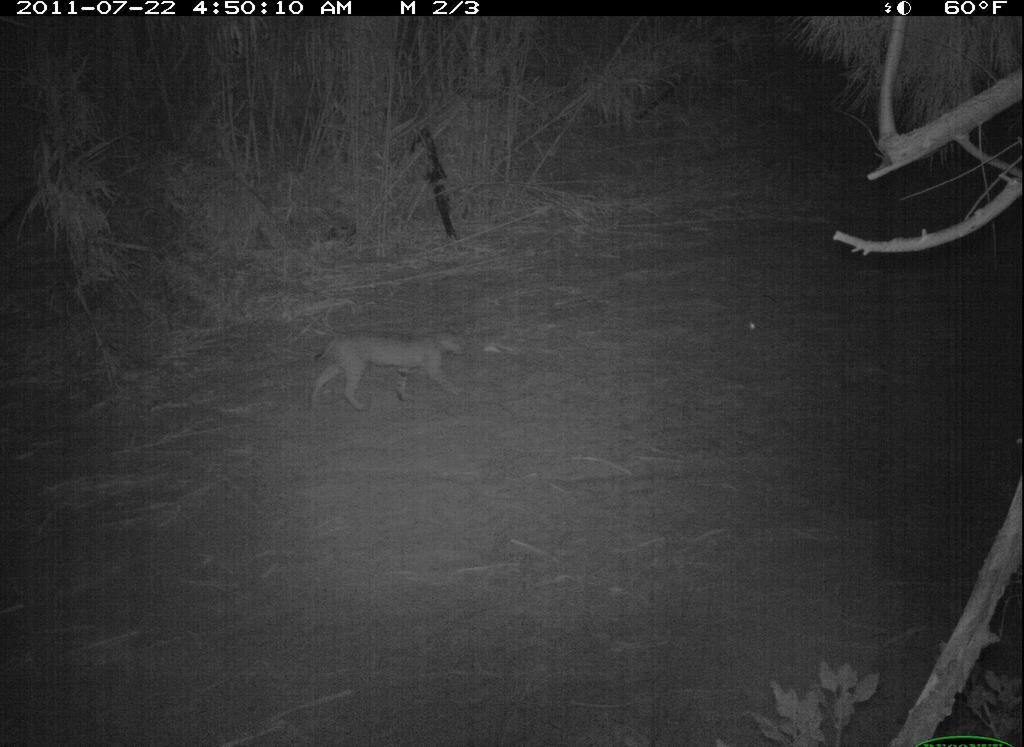bobcat: (290, 318, 477, 424)
